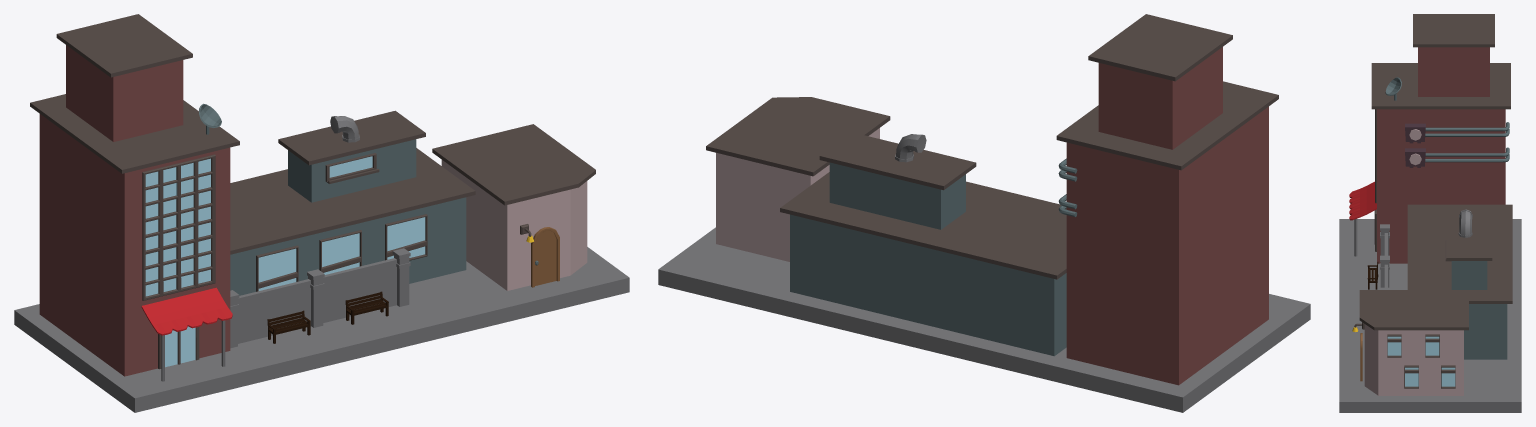
Rendered from Block_6.fbx.
The picture shows the model from 3 angles, left to right: view 1: azimuth 30°, elevation 25°; view 2: azimuth 150°, elevation 25°; view 3: azimuth 270°, elevation 25°; orthographic projection. The views are drawn at different scales.
Parts seen in each view (by area): view 1: polySurface228, polySurface233, polySurface217, polySurface241, polySurface229, polySurface222, polySurface238, polySurface218, polySurface236, polySurface239, polySurface211, polySurface243 (+9 smaller); view 2: polySurface228, polySurface217, polySurface233, polySurface241, polySurface229, polySurface238, polySurface206; view 3: polySurface228, polySurface233, polySurface241, polySurface217, polySurface229, polySurface238, polySurface239, polySurface214, polySurface215, polySurface225, polySurface240, polySurface242 (+11 smaller).
Part boxes in pixels (x1,y1,x2,y2): polySurface228: (30, 94, 239, 376); polySurface233: (14, 247, 629, 412); polySurface217: (230, 148, 475, 295); polySurface241: (432, 124, 595, 290); polySurface229: (56, 14, 192, 141); polySurface222: (142, 154, 215, 300); polySurface238: (278, 110, 425, 202); polySurface218: (323, 258, 396, 322); polySurface236: (238, 279, 310, 343); polySurface239: (141, 287, 232, 335); polySurface211: (385, 214, 427, 260); polySurface243: (256, 245, 298, 291); polySurface228: (1056, 81, 1278, 385); polySurface217: (780, 172, 1066, 356); polySurface233: (658, 227, 1310, 412); polySurface241: (706, 97, 890, 261); polySurface229: (1088, 14, 1232, 149); polySurface238: (819, 132, 976, 229); polySurface206: (895, 134, 926, 162); polySurface228: (1371, 63, 1510, 263); polySurface233: (1339, 219, 1521, 412); polySurface241: (1359, 290, 1468, 395); polySurface217: (1407, 204, 1512, 359); polySurface229: (1413, 14, 1494, 96); polySurface238: (1446, 214, 1492, 289); polySurface239: (1349, 181, 1376, 220); polySurface214: (1425, 122, 1509, 131); polySurface215: (1441, 365, 1455, 388); polySurface225: (1425, 334, 1439, 357); polySurface240: (1404, 365, 1418, 388); polySurface242: (1387, 334, 1401, 357).
Bounding box in the file's own units: 710 × 408 × 299.
